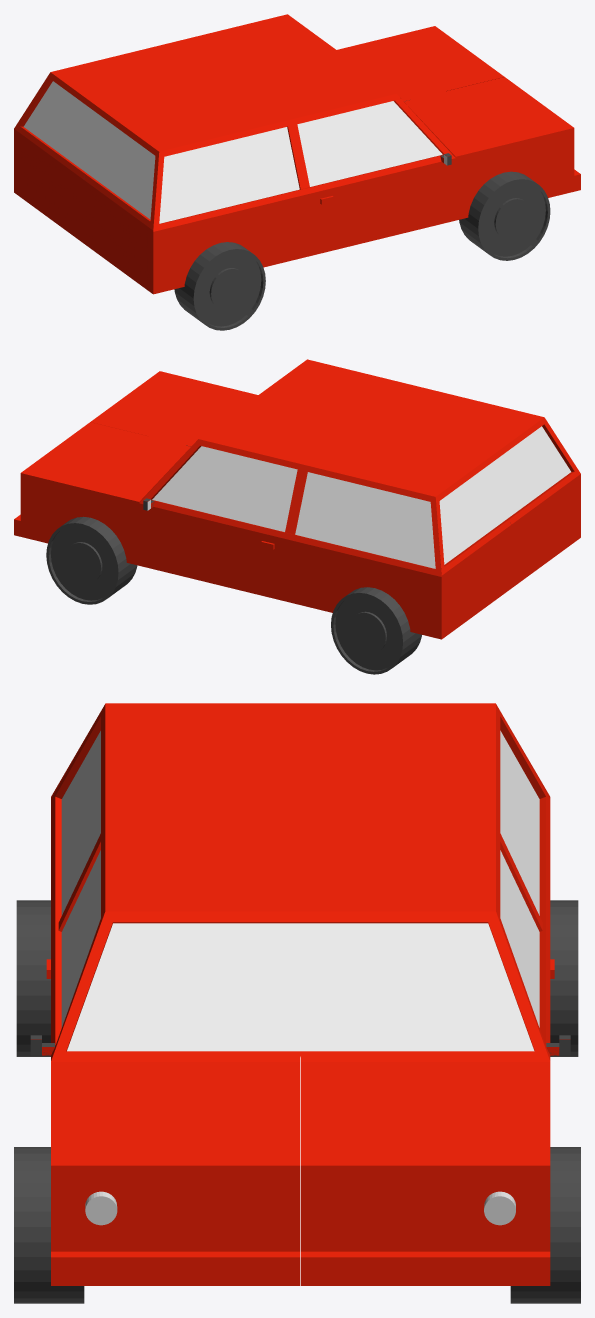
The model's file is Car.glb.
The picture shows the model from 3 angles, top to bottom: view 1: azimuth 30°, elevation 25°; view 2: azimuth 150°, elevation 25°; view 3: azimuth 270°, elevation 25°; orthographic projection. The views are drawn at different scales.
Visible parts, largest first — view 1: car, wheel, divider; view 2: car, wheel, divider; view 3: car, wheel, lamp, divider.
Boxes of the visible parts, bbox=[...] form: car: bbox=[14, 14, 580, 294]; wheel: bbox=[174, 100, 550, 330]; divider: bbox=[287, 124, 309, 189]; car: bbox=[14, 359, 580, 639]; wheel: bbox=[46, 445, 421, 674]; divider: bbox=[285, 469, 307, 534]; car: bbox=[30, 703, 570, 1285]; wheel: bbox=[14, 900, 580, 1303]; lamp: bbox=[85, 1191, 515, 1225]; divider: bbox=[58, 833, 542, 931].
Size of what is drawn, in the model's own units: 3.5 by 1.34 by 2.24.
